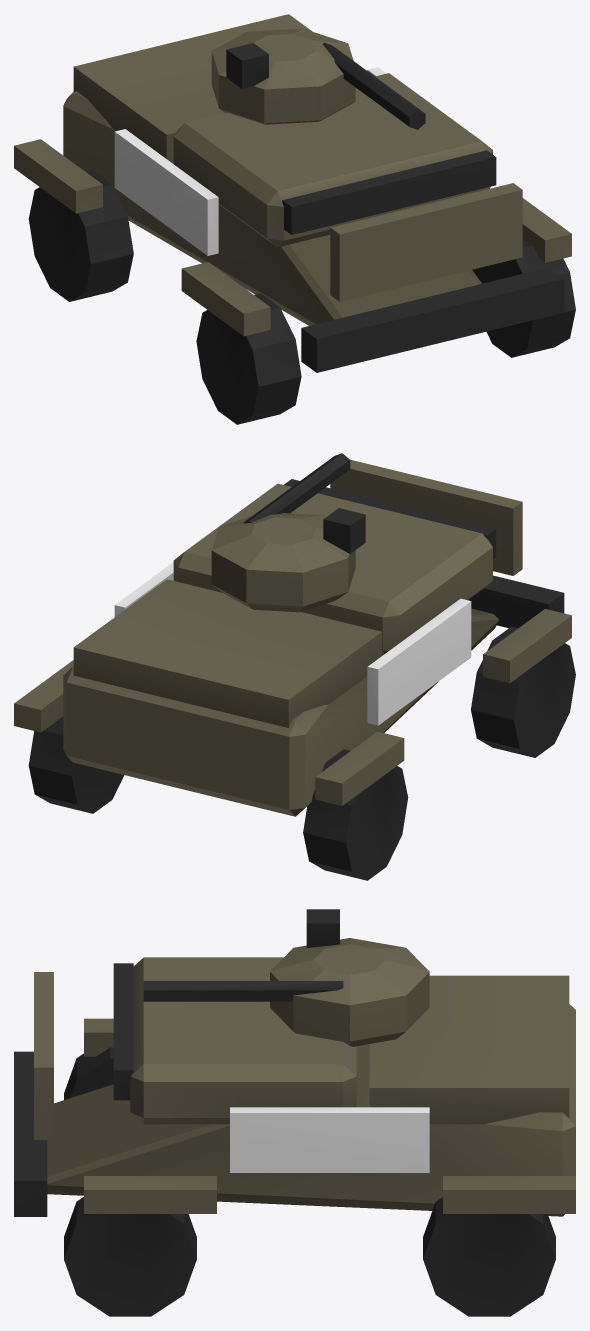
Rendered from ru-brdm-scout.glb.
3 views of the same model, one above another, from view 1: azimuth 30°, elevation 25°; view 2: azimuth 150°, elevation 25°; view 3: azimuth 270°, elevation 25° (orthographic). The views are drawn at different scales.
Parts seen in each view (by area): view 1: ru-brdm-scout, turret; view 2: ru-brdm-scout, turret; view 3: ru-brdm-scout, turret.
Boxes of the visible parts, x1=… form: ru-brdm-scout: x1=14, y1=14, x2=575, y2=424; turret: x1=211, y1=28, x2=425, y2=129; ru-brdm-scout: x1=14, y1=459, x2=575, y2=880; turret: x1=211, y1=453, x2=365, y2=612; ru-brdm-scout: x1=14, y1=957, x2=575, y2=1316; turret: x1=143, y1=909, x2=429, y2=1046.
Bounding box in the file's own units: 0.61 × 0.4851 × 0.845.
